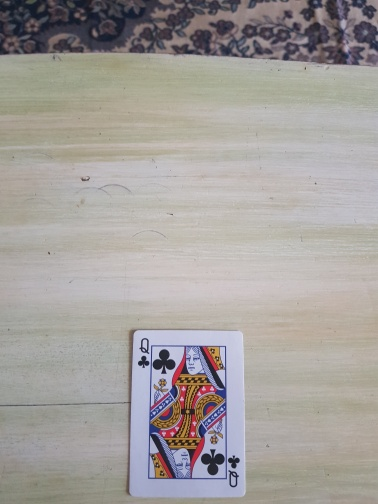queen: (126, 329, 248, 499)
